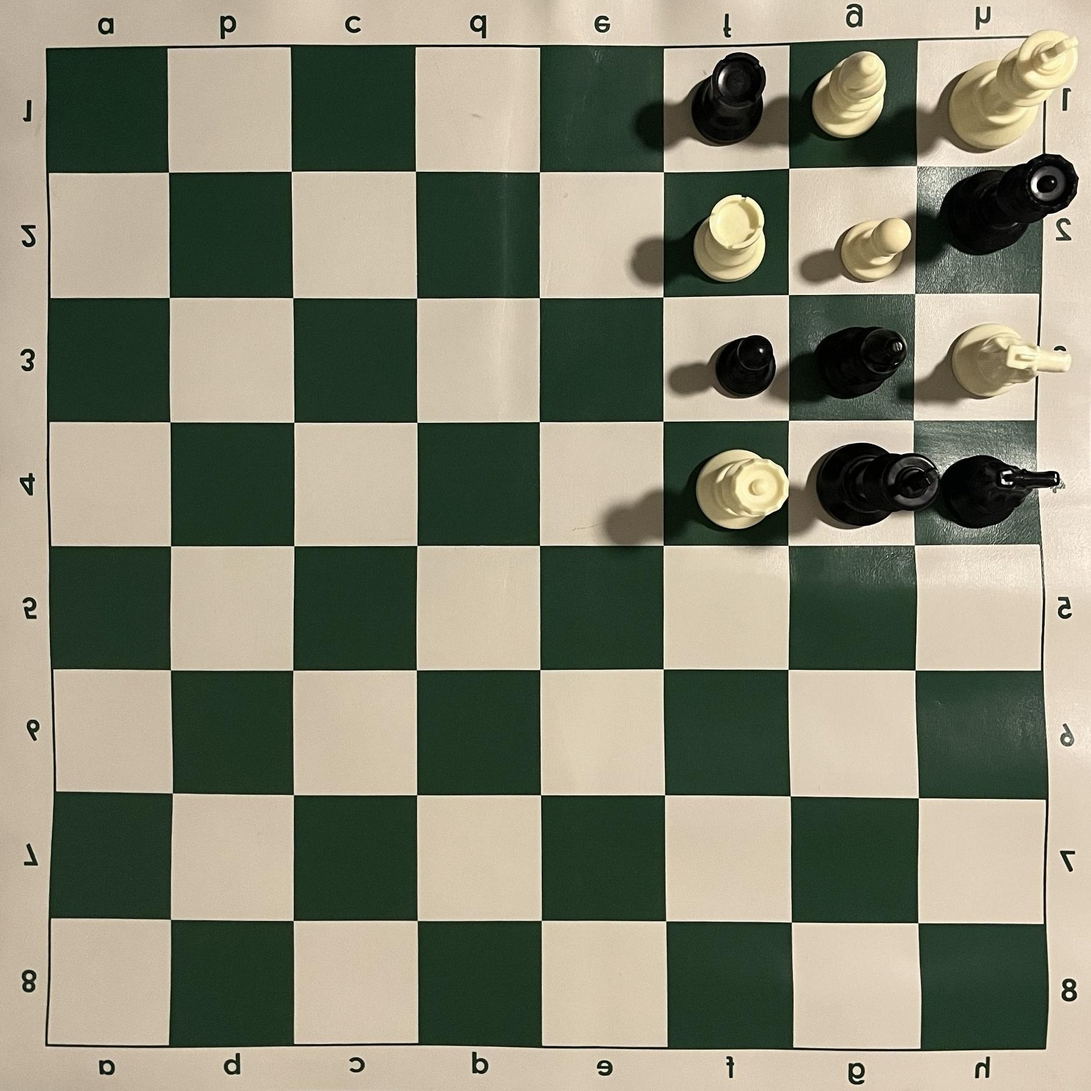black_bishop: (811, 326, 909, 399)
black_king: (812, 442, 940, 530)
black_knight: (940, 455, 1064, 530)
black_pawn: (709, 335, 776, 399)
black_queen: (942, 153, 1079, 256)
black_rook: (691, 52, 767, 147)
white_bishop: (812, 51, 888, 138)
white_king: (947, 29, 1080, 151)
white_knight: (950, 323, 1072, 400)
white_pawn: (839, 218, 912, 283)
white_queen: (694, 449, 790, 530)
white_rook: (692, 194, 768, 284)
